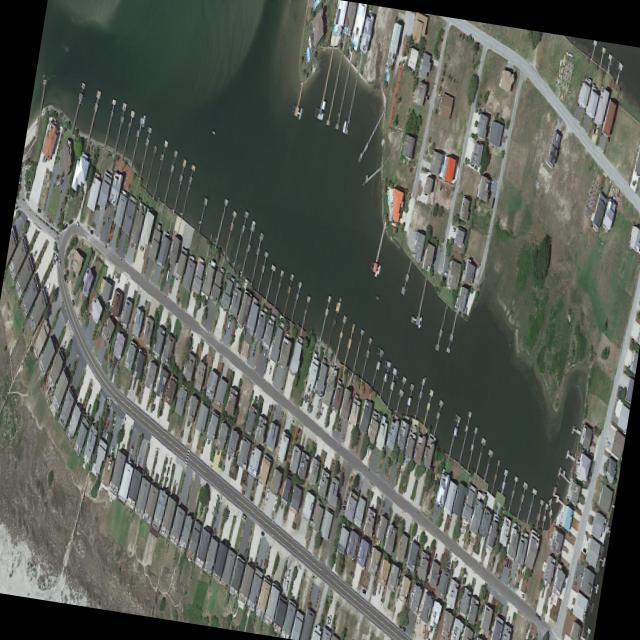ship: (213, 492, 218, 506), (141, 113, 145, 128), (165, 267, 169, 282), (281, 575, 285, 588)
small-vehicle: (226, 317, 230, 330), (592, 122, 596, 135), (251, 345, 255, 357), (327, 613, 331, 625), (62, 222, 67, 231), (66, 361, 70, 372), (32, 247, 36, 258), (102, 419, 106, 430), (62, 338, 66, 349), (503, 555, 507, 566), (507, 558, 511, 569), (463, 522, 467, 533), (460, 523, 464, 534), (403, 456, 407, 467), (104, 419, 108, 429), (165, 465, 169, 475), (53, 252, 58, 260), (105, 410, 109, 420), (432, 552, 436, 562), (505, 557, 509, 567), (262, 347, 266, 357), (107, 399, 111, 408), (36, 206, 41, 213), (595, 124, 598, 135), (268, 364, 271, 375), (398, 621, 402, 629), (106, 213, 109, 223), (136, 457, 139, 467), (356, 479, 359, 489), (306, 393, 309, 403), (319, 406, 322, 416), (212, 525, 215, 535), (258, 558, 261, 568), (240, 488, 244, 495), (63, 272, 66, 281), (96, 414, 99, 423), (415, 534, 418, 543), (71, 297, 74, 306), (549, 594, 552, 603), (304, 393, 307, 402), (211, 506, 214, 515), (286, 568, 289, 577), (68, 218, 72, 224), (76, 220, 79, 228), (168, 457, 171, 465), (249, 494, 252, 502), (585, 476, 589, 482), (401, 625, 405, 631), (520, 571, 523, 579), (584, 535, 588, 541), (361, 588, 365, 594), (399, 469, 402, 477), (426, 630, 429, 637), (579, 572, 582, 579), (582, 547, 586, 552), (52, 259, 55, 265), (588, 470, 591, 476), (606, 441, 609, 447), (343, 498, 346, 504), (89, 229, 93, 233), (260, 531, 264, 535), (303, 392, 305, 400), (263, 557, 265, 565), (86, 225, 89, 230), (521, 593, 524, 598), (341, 506, 345, 509), (58, 257, 59, 267), (427, 636, 429, 640), (390, 638, 393, 640)
